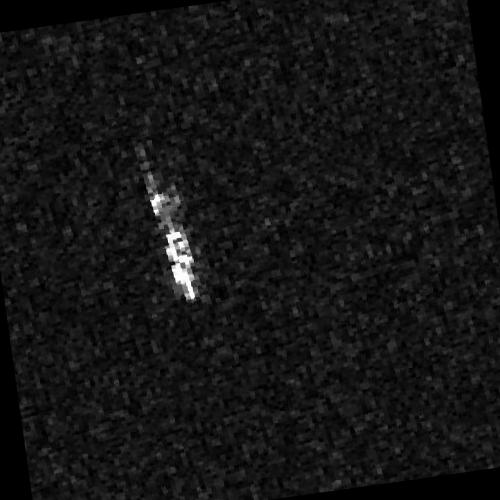ship: (149, 190, 197, 304)
